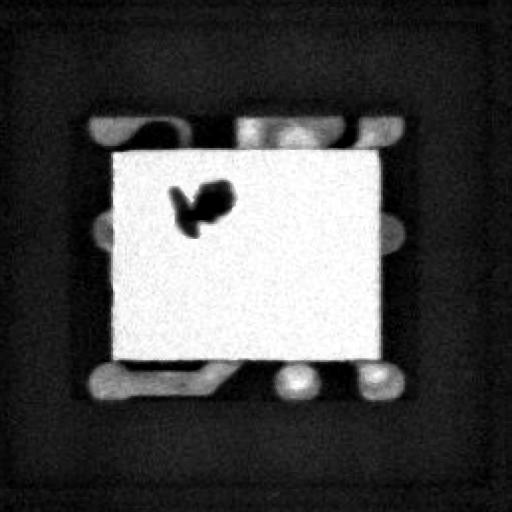DIE_INK: (157, 181, 224, 248)
